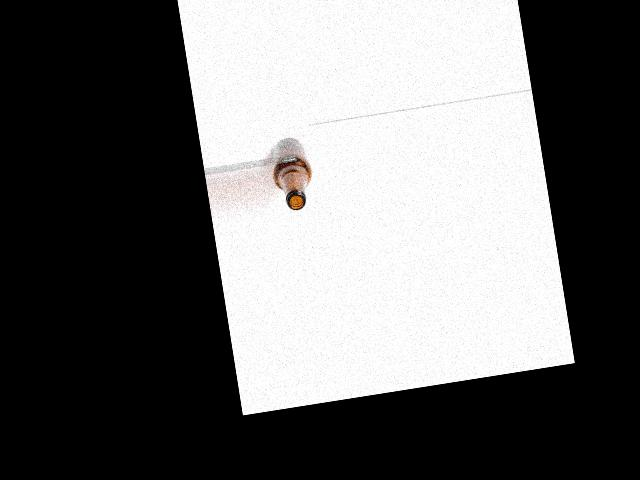beer: (266, 134, 317, 213)
